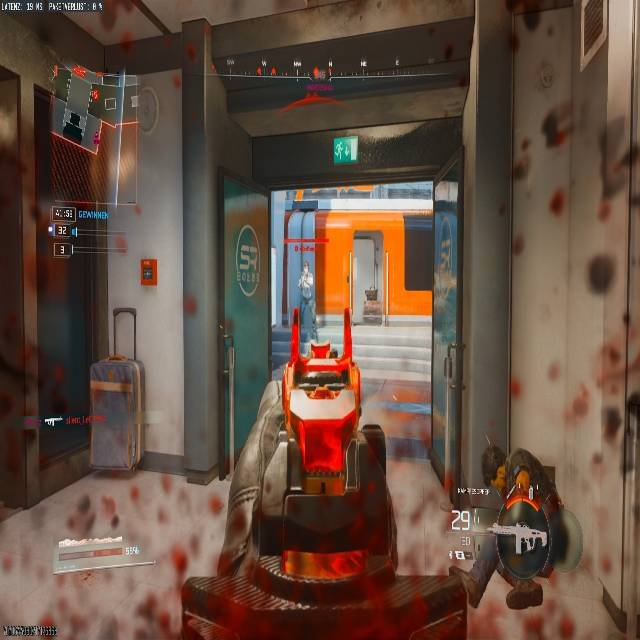head: (302, 260, 310, 271)
player: (298, 260, 313, 309)
